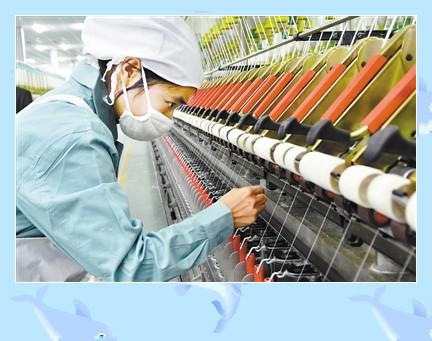OK: (124, 80, 186, 142)
